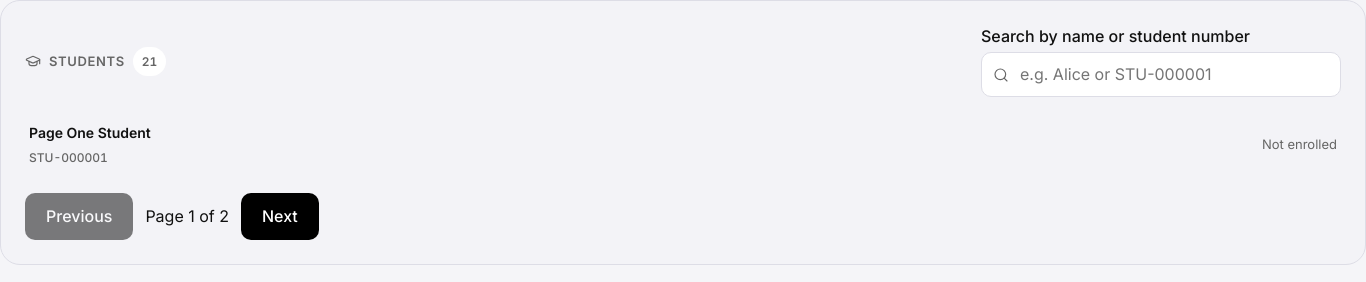
Scenario: StudentsListPage › clicking Next loads page 2, and Next disables once there is no next page
Expected: the text "Page One Student" is shown, [29,121,151,145]
Click the button "Next": x=280, y=216 [241,193,319,240]
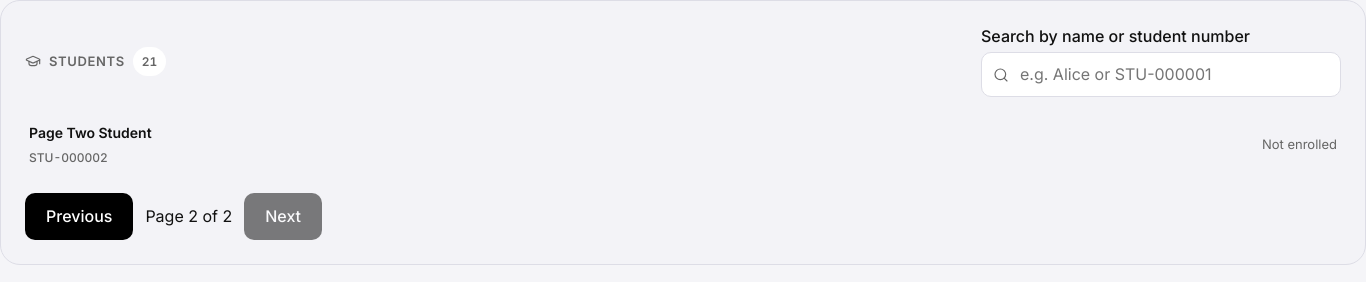
Expected: the text "Page Two Student" is shown, [29,121,152,145]
Expected: the link "Page One Student" is gone
Expected: the text "Page 2 of 2" is shown, [145,205,232,228]
